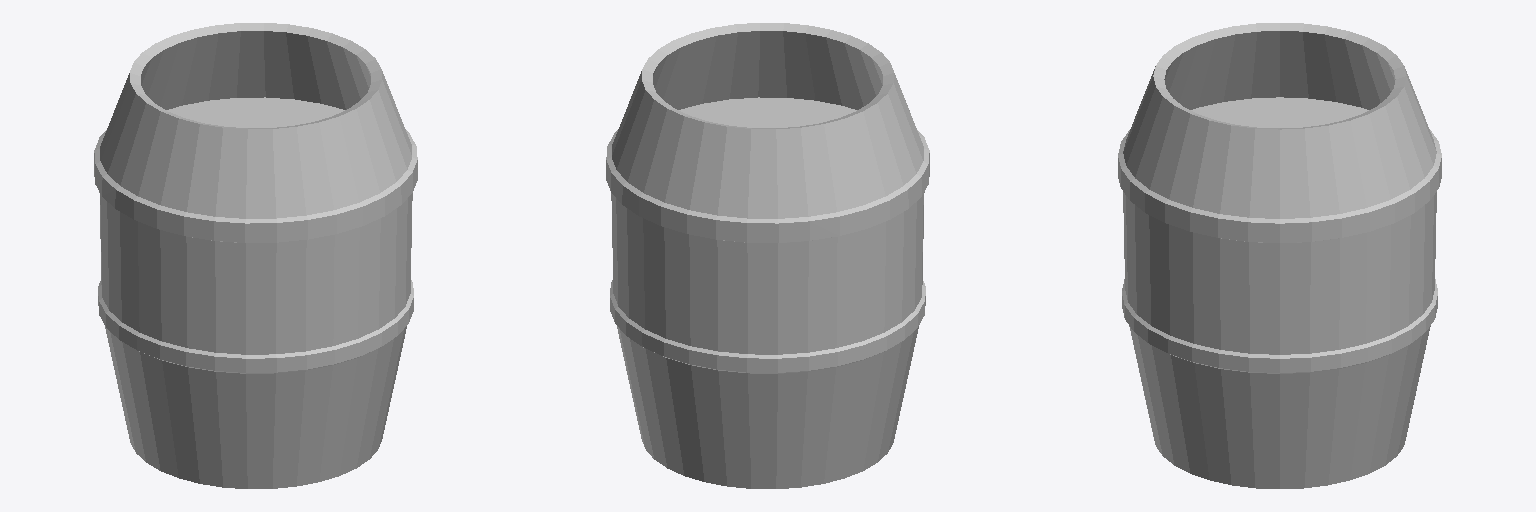
File: barrelConverted.obj
3 views of the same model, side by side, from view 1: azimuth 30°, elevation 25°; view 2: azimuth 150°, elevation 25°; view 3: azimuth 270°, elevation 25° (orthographic).
Bounding box in the file's own units: 0.1797 × 0.2197 × 0.1797.